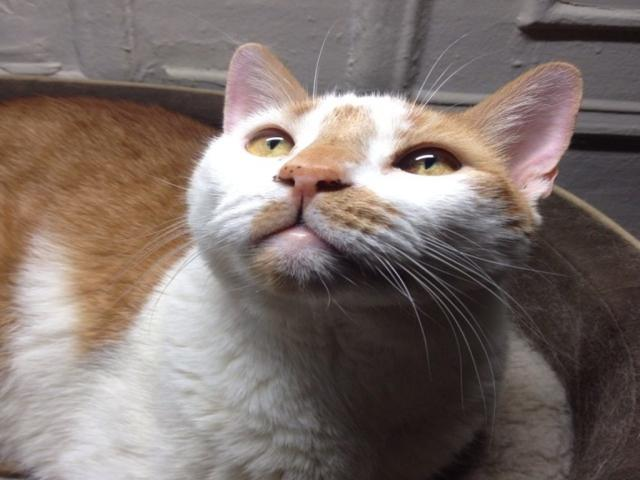Cat: (0, 16, 584, 479)
